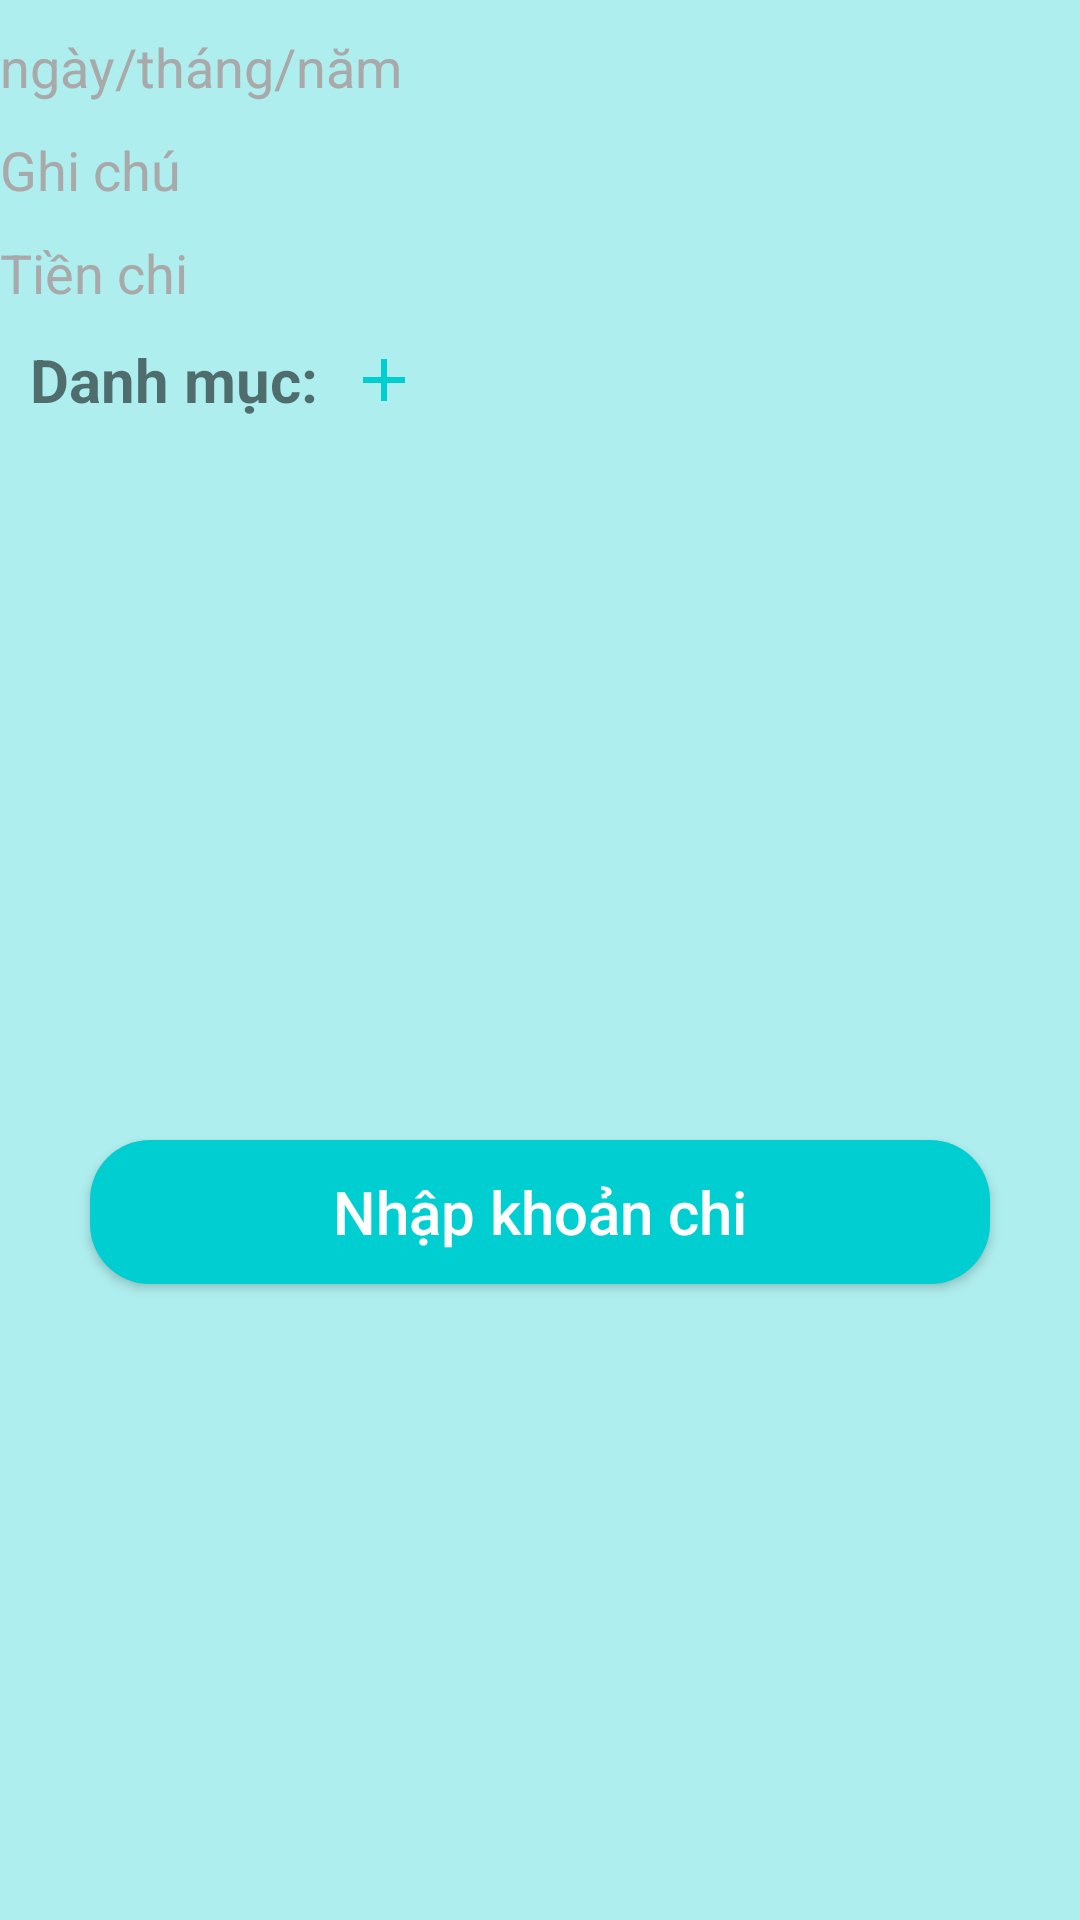

Point at icon controls on the screen. Image size 1080 × 1920, points as (x=x, y=y).
add: (x=384, y=380)
